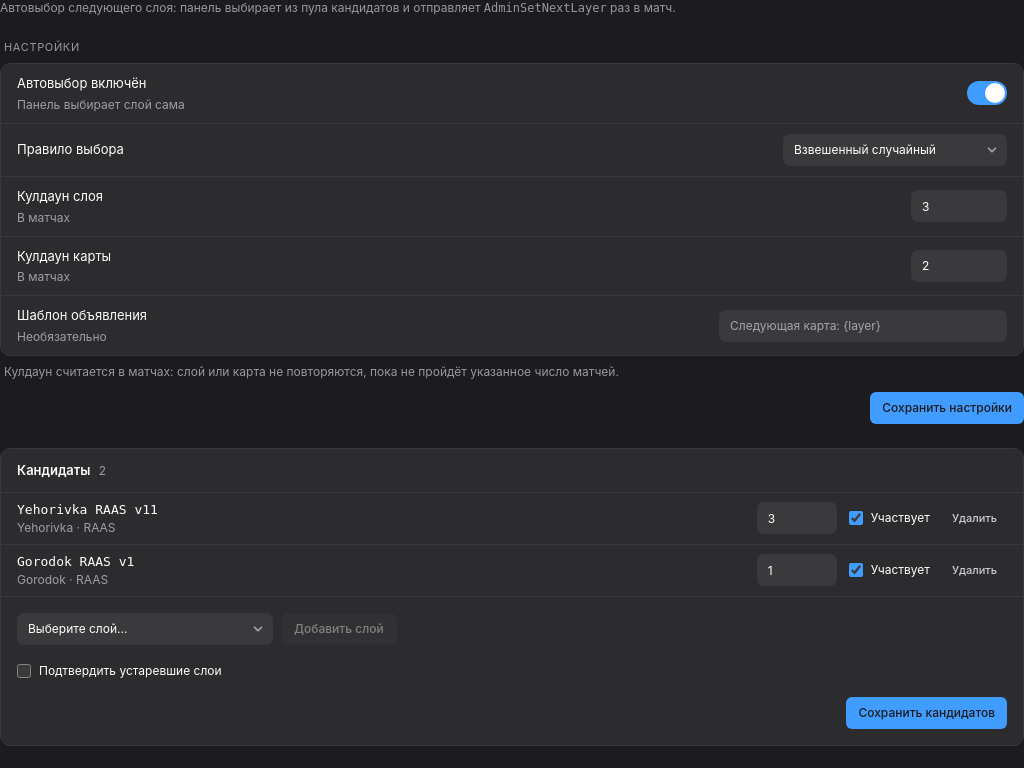
Test: MapVotePage — сбои загрузки и сохранения › ошибку сохранения показывает по-русски, а не сырым JSON
The width and height of the screenshot is (1024, 768).
Click the button "Сохранить кандидатов" at (927, 713), box [846,697,1007,729]
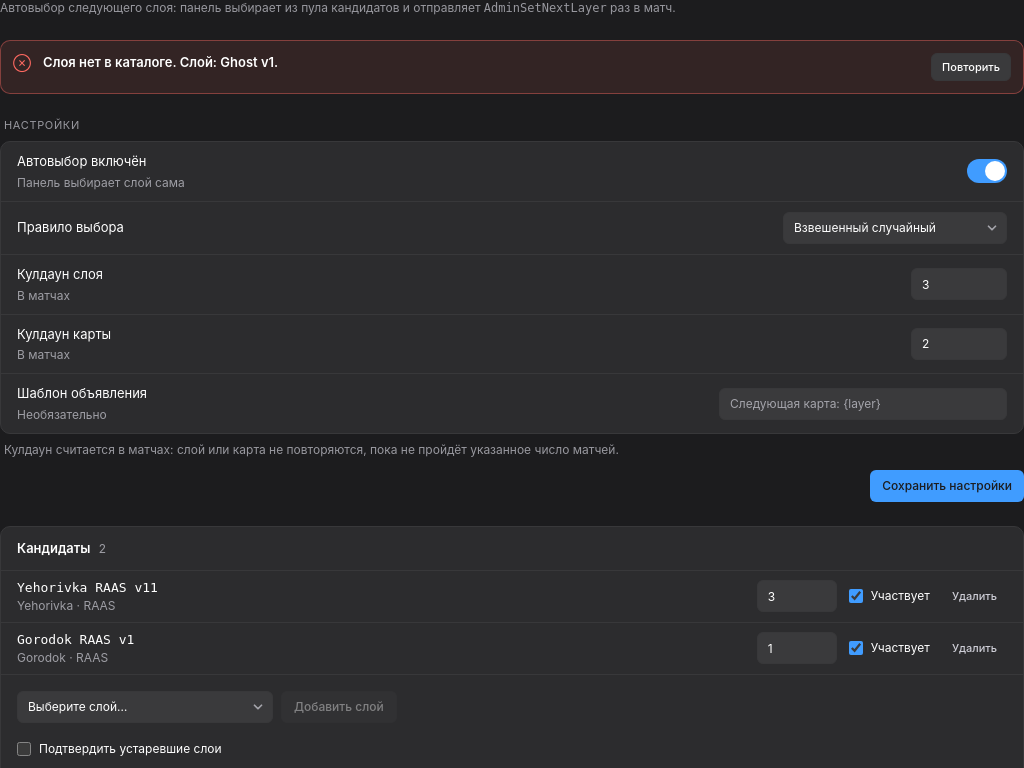
Expected: the text "Слоя нет в каталоге. Слой: Ghost v1." is shown, [43,54,278,70]
